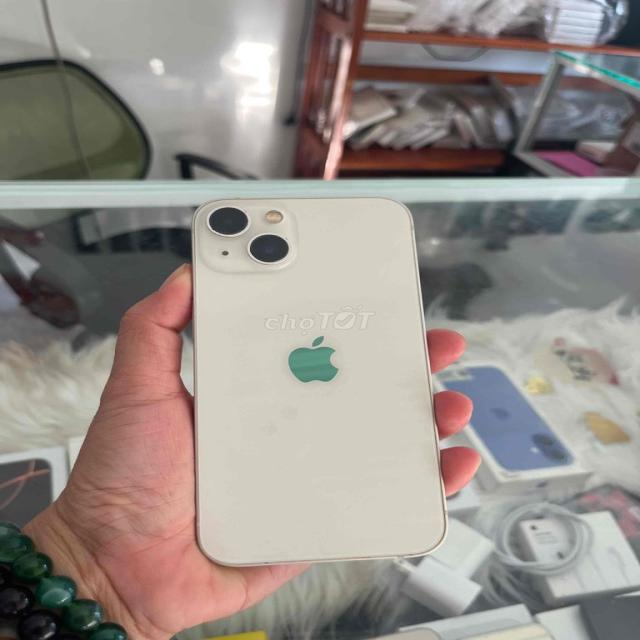gen_12_13: (182, 192, 452, 564)
